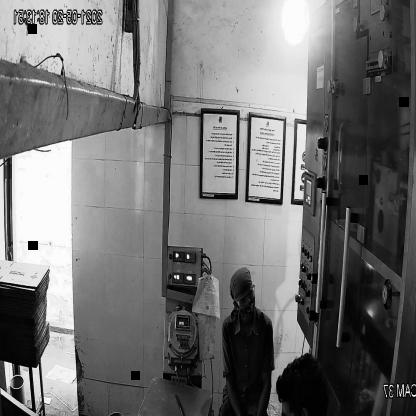goggles: (236, 284, 256, 310)
